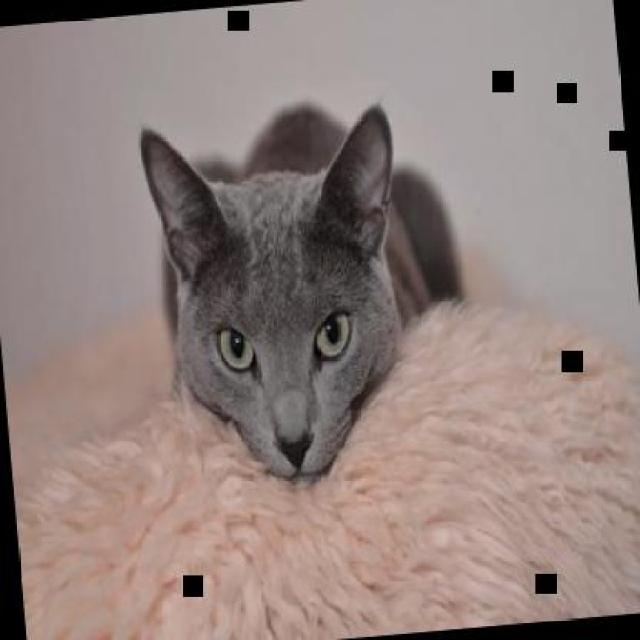cat: (136, 86, 473, 497)
